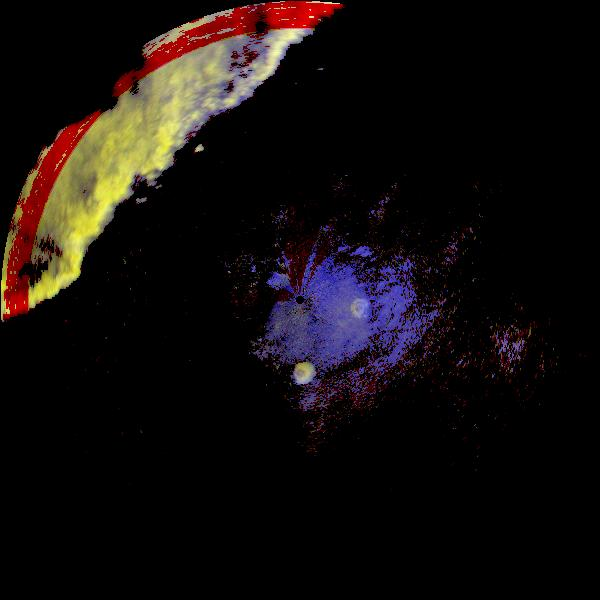roost: (287, 357, 320, 390), (344, 295, 371, 322)
